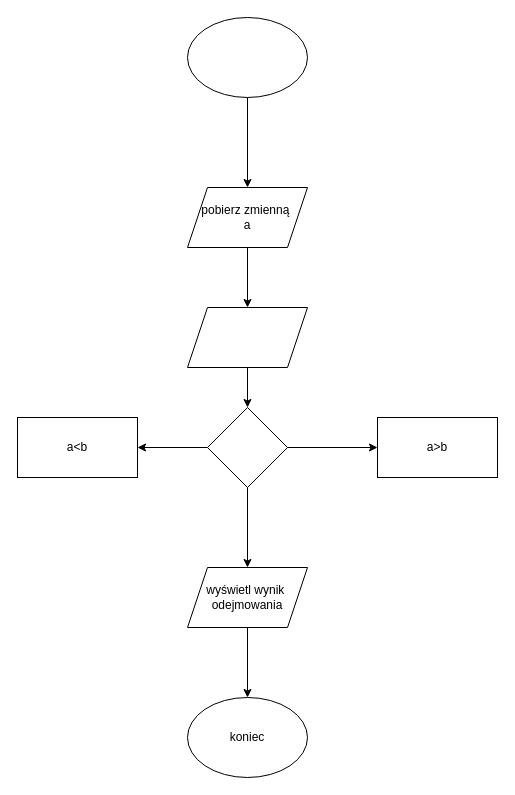
Image size: 515x795. Some labels were removed from this diagram. Here are the shapes that lost their labels. From the top down, the centre of each, then its label:
At point 247,57: "start".
At point 247,337: "pobierz zmienną b".
At point 247,447: "jeżeli a".
